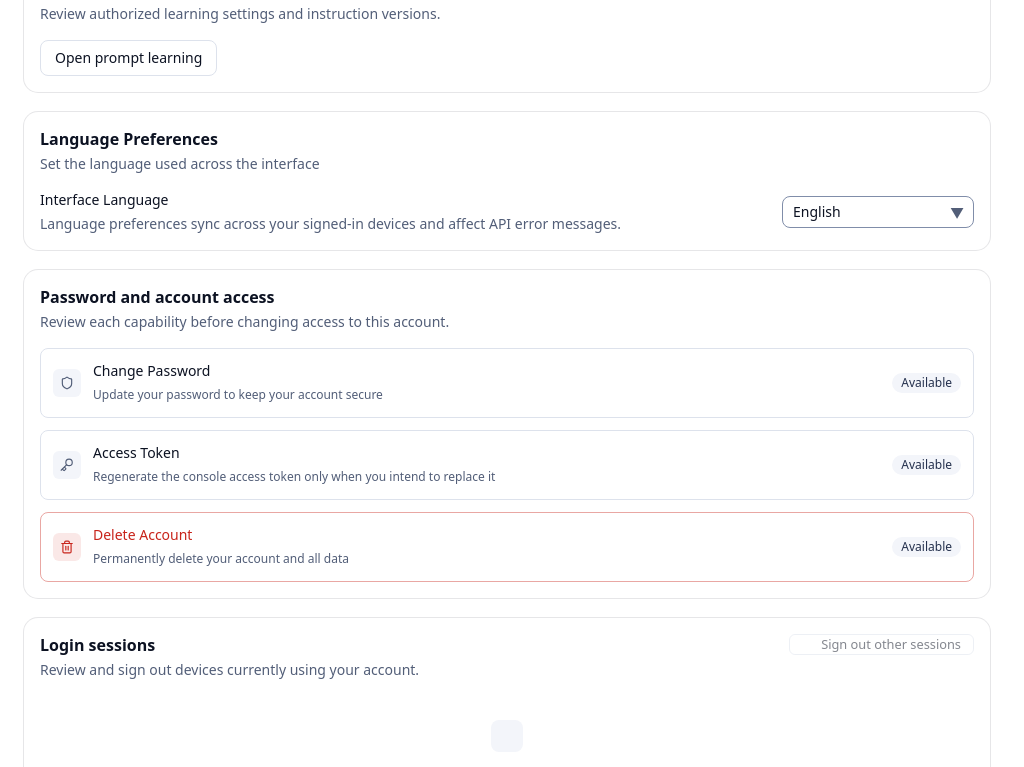
Test case: profile task layout › keeps one task heading and preserves account security dialog dismissal in the new page frame
(page scrolled)
Step 1. Click the button "Change Password Update your password" → (152, 371), box x1=40 y1=348 x2=974 y2=418
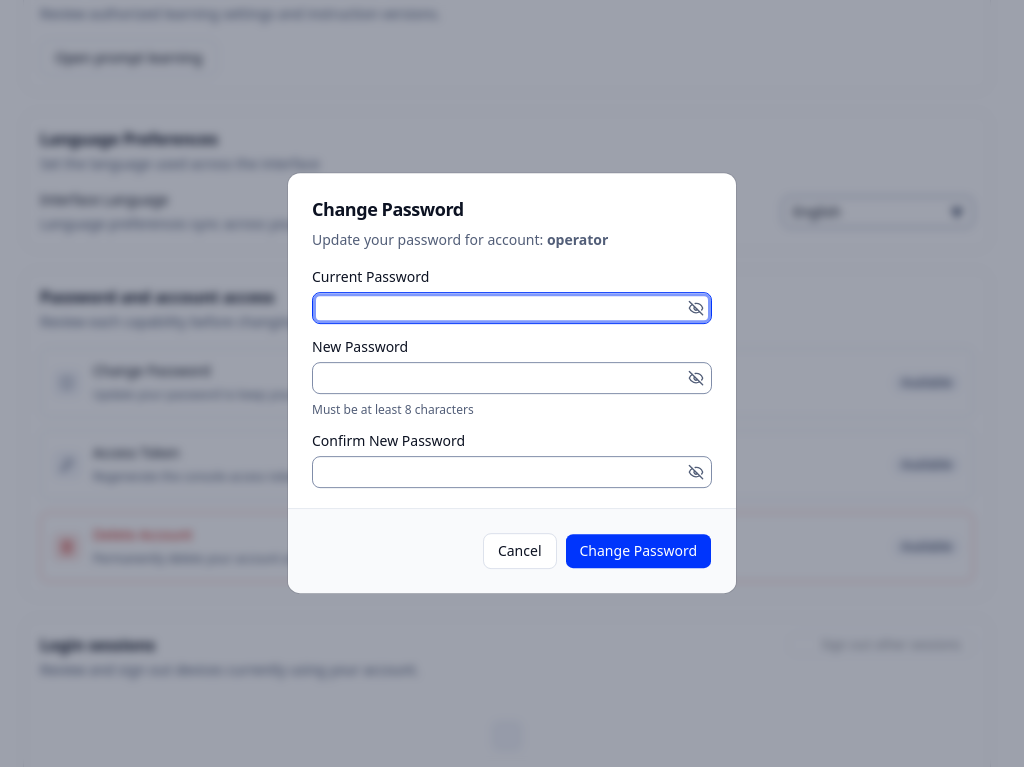
Now the dialog "Change Password" is shown, box x1=288 y1=173 x2=736 y2=593
Step 2. Press Escape
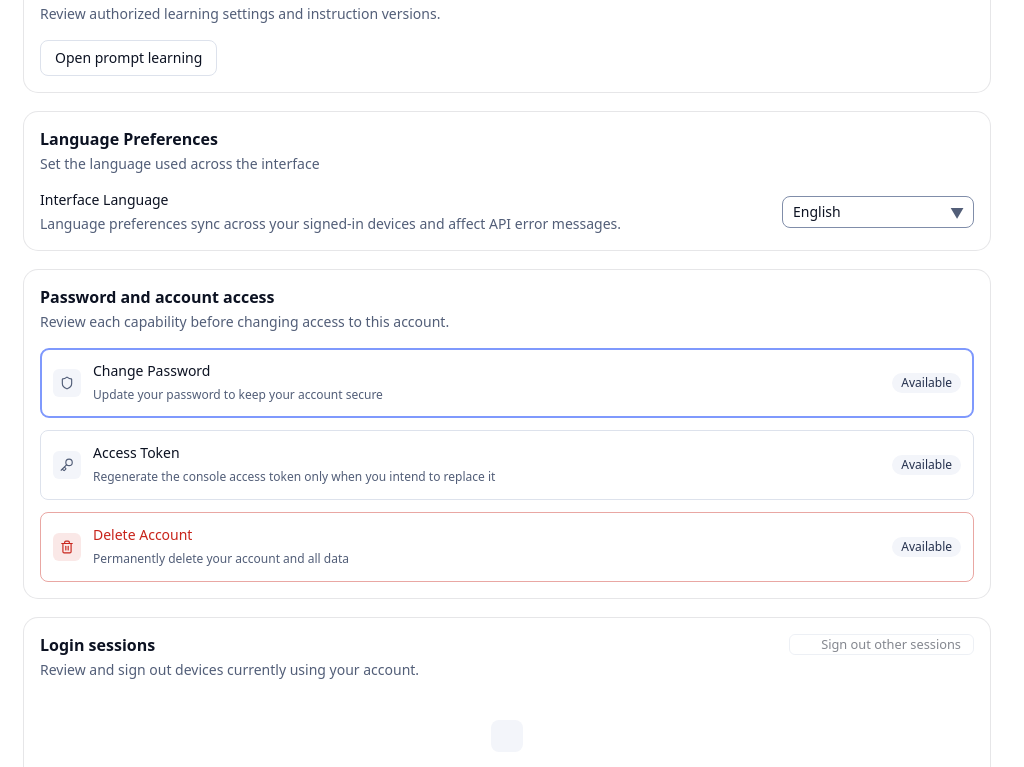
Now the dialog is gone
